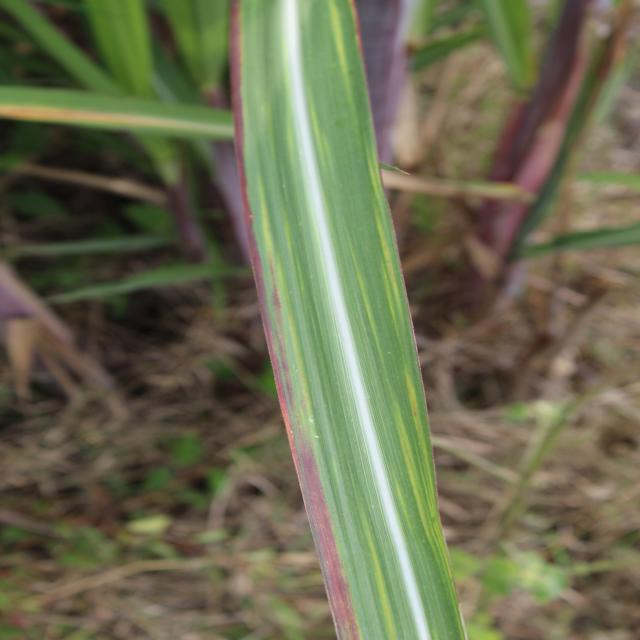Sugarcane: (222, 0, 482, 640)
